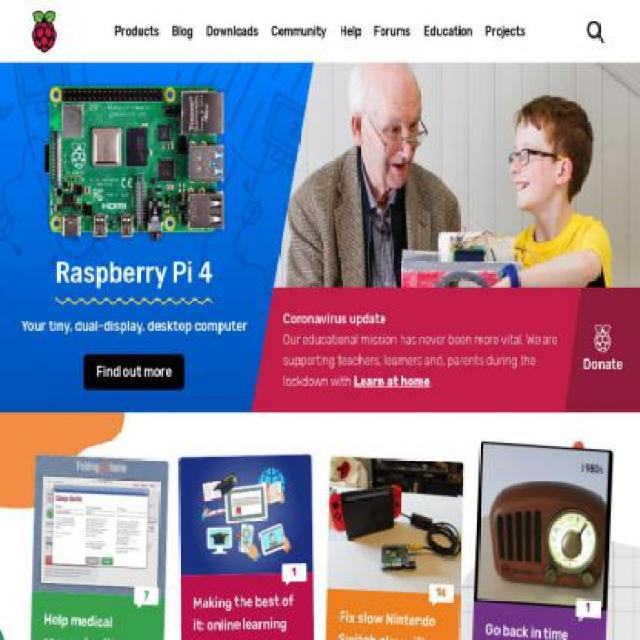button: (40, 79, 228, 246), (470, 441, 604, 639), (28, 455, 164, 639), (178, 453, 312, 639), (324, 456, 458, 639), (564, 288, 640, 414), (264, 0, 334, 63), (200, 0, 266, 63), (417, 0, 478, 63), (108, 0, 166, 63), (83, 355, 185, 390), (478, 0, 533, 63), (367, 0, 418, 63), (165, 0, 201, 63), (332, 0, 368, 63), (32, 0, 58, 63)
